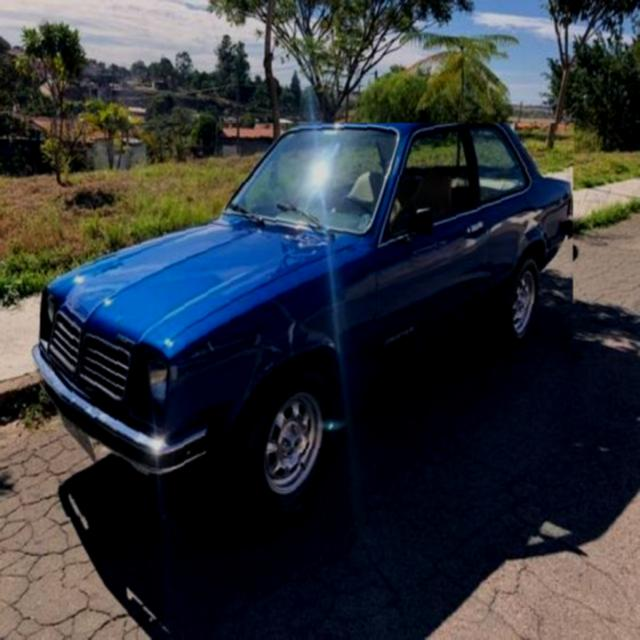car: (41, 124, 575, 519)
